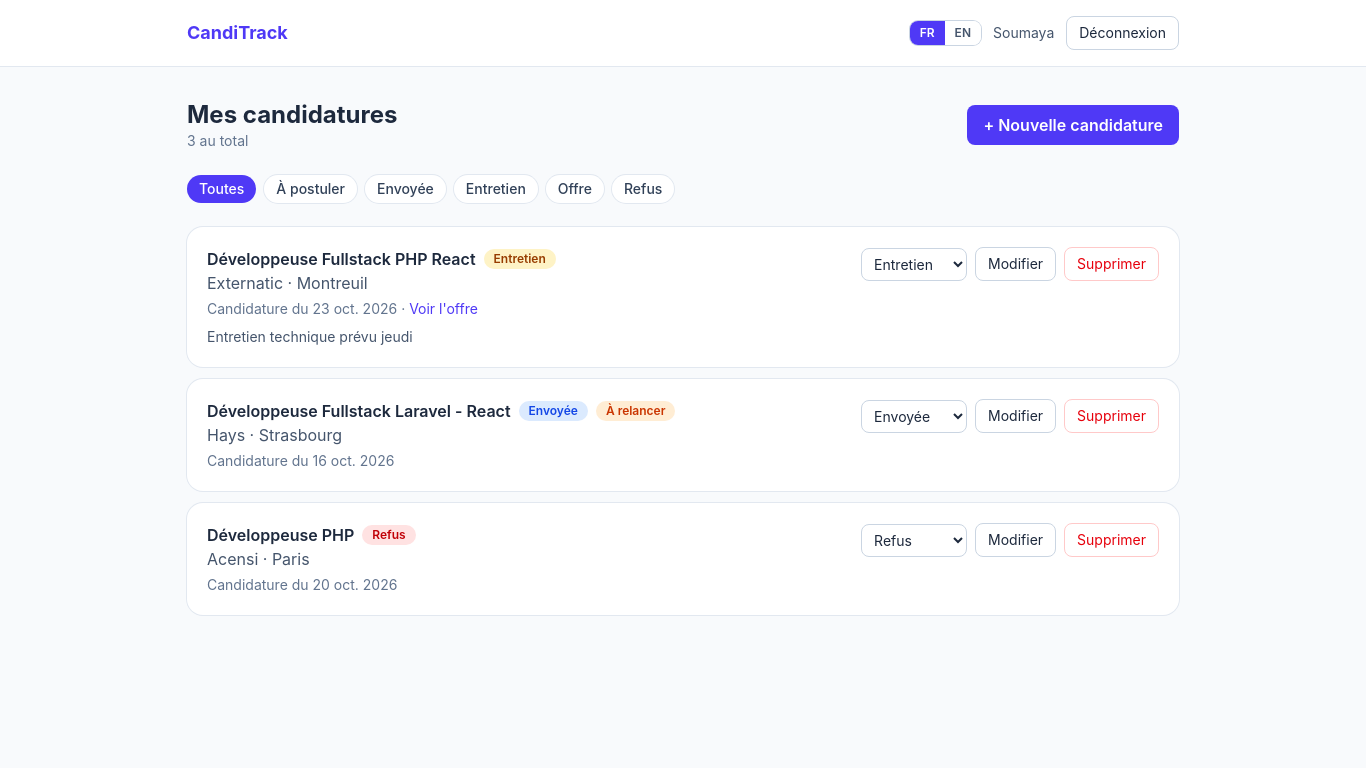
Test: Candidatures › filtre les candidatures par statut
Click the button "Entretien" at (496, 189), box [454,175,538,203]
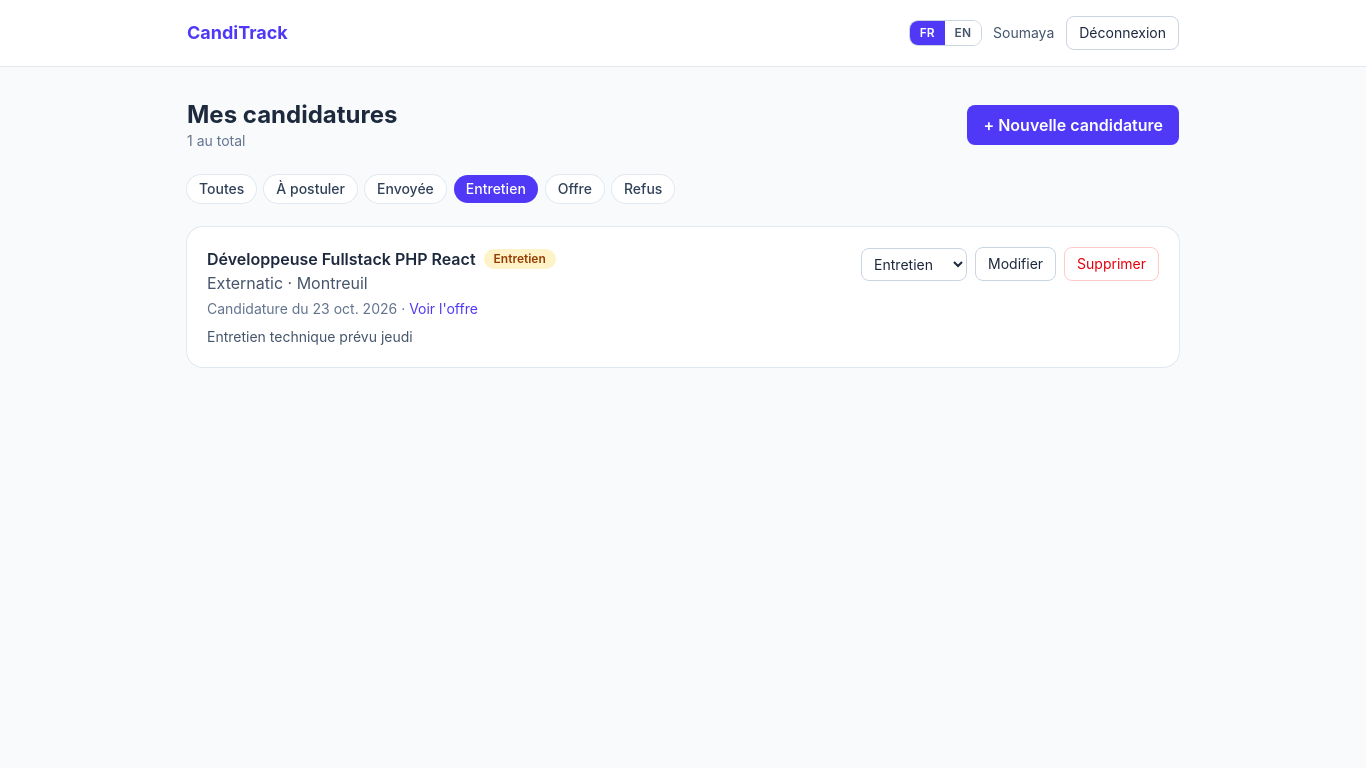
Check: the list item "Externatic" is shown, box [207,273,283,293]
Check: the number of list items is 1, box [187,227,1179,367]
